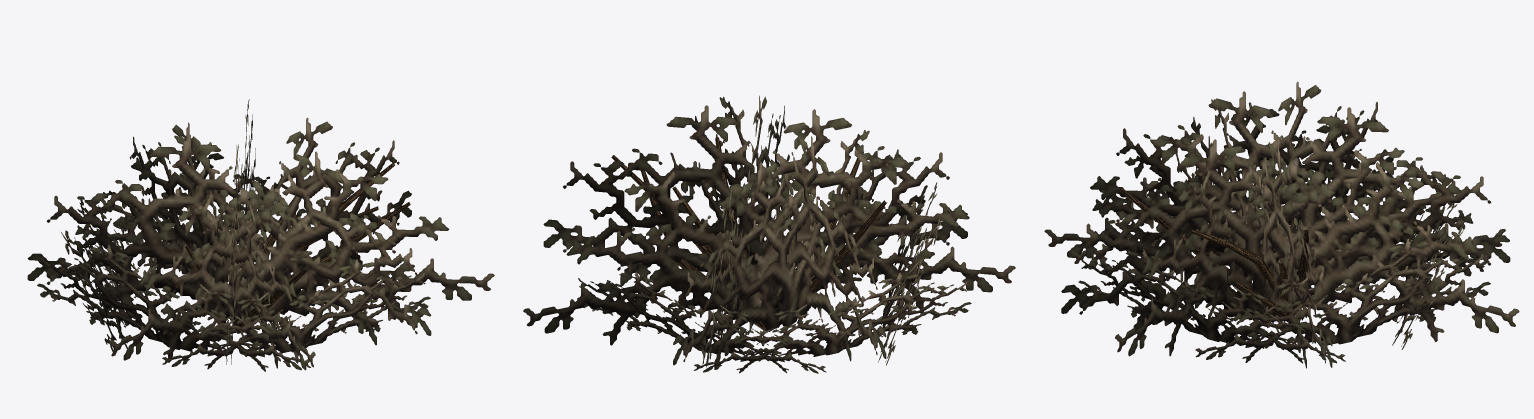
The model's file is Arbusto-Espinhoso-01-Baixo.glb.
The picture shows the model from 3 angles, left to right: view 1: azimuth 30°, elevation 25°; view 2: azimuth 150°, elevation 25°; view 3: azimuth 270°, elevation 25°; orthographic projection. The views are drawn at different scales.
Visible parts, largest first — view 1: Arbusto-Espinhoso-01-Baixo; view 2: Arbusto-Espinhoso-01-Baixo; view 3: Arbusto-Espinhoso-01-Baixo.
Part boxes in pixels (x1,y1,x2,y2): Arbusto-Espinhoso-01-Baixo: (27, 99, 494, 371); Arbusto-Espinhoso-01-Baixo: (523, 95, 1015, 373); Arbusto-Espinhoso-01-Baixo: (1044, 81, 1519, 368).
Size of what is drawn, in the model's own units: 2.48 by 1.23 by 2.43.
Materials: 2 (2 with a texture image).
